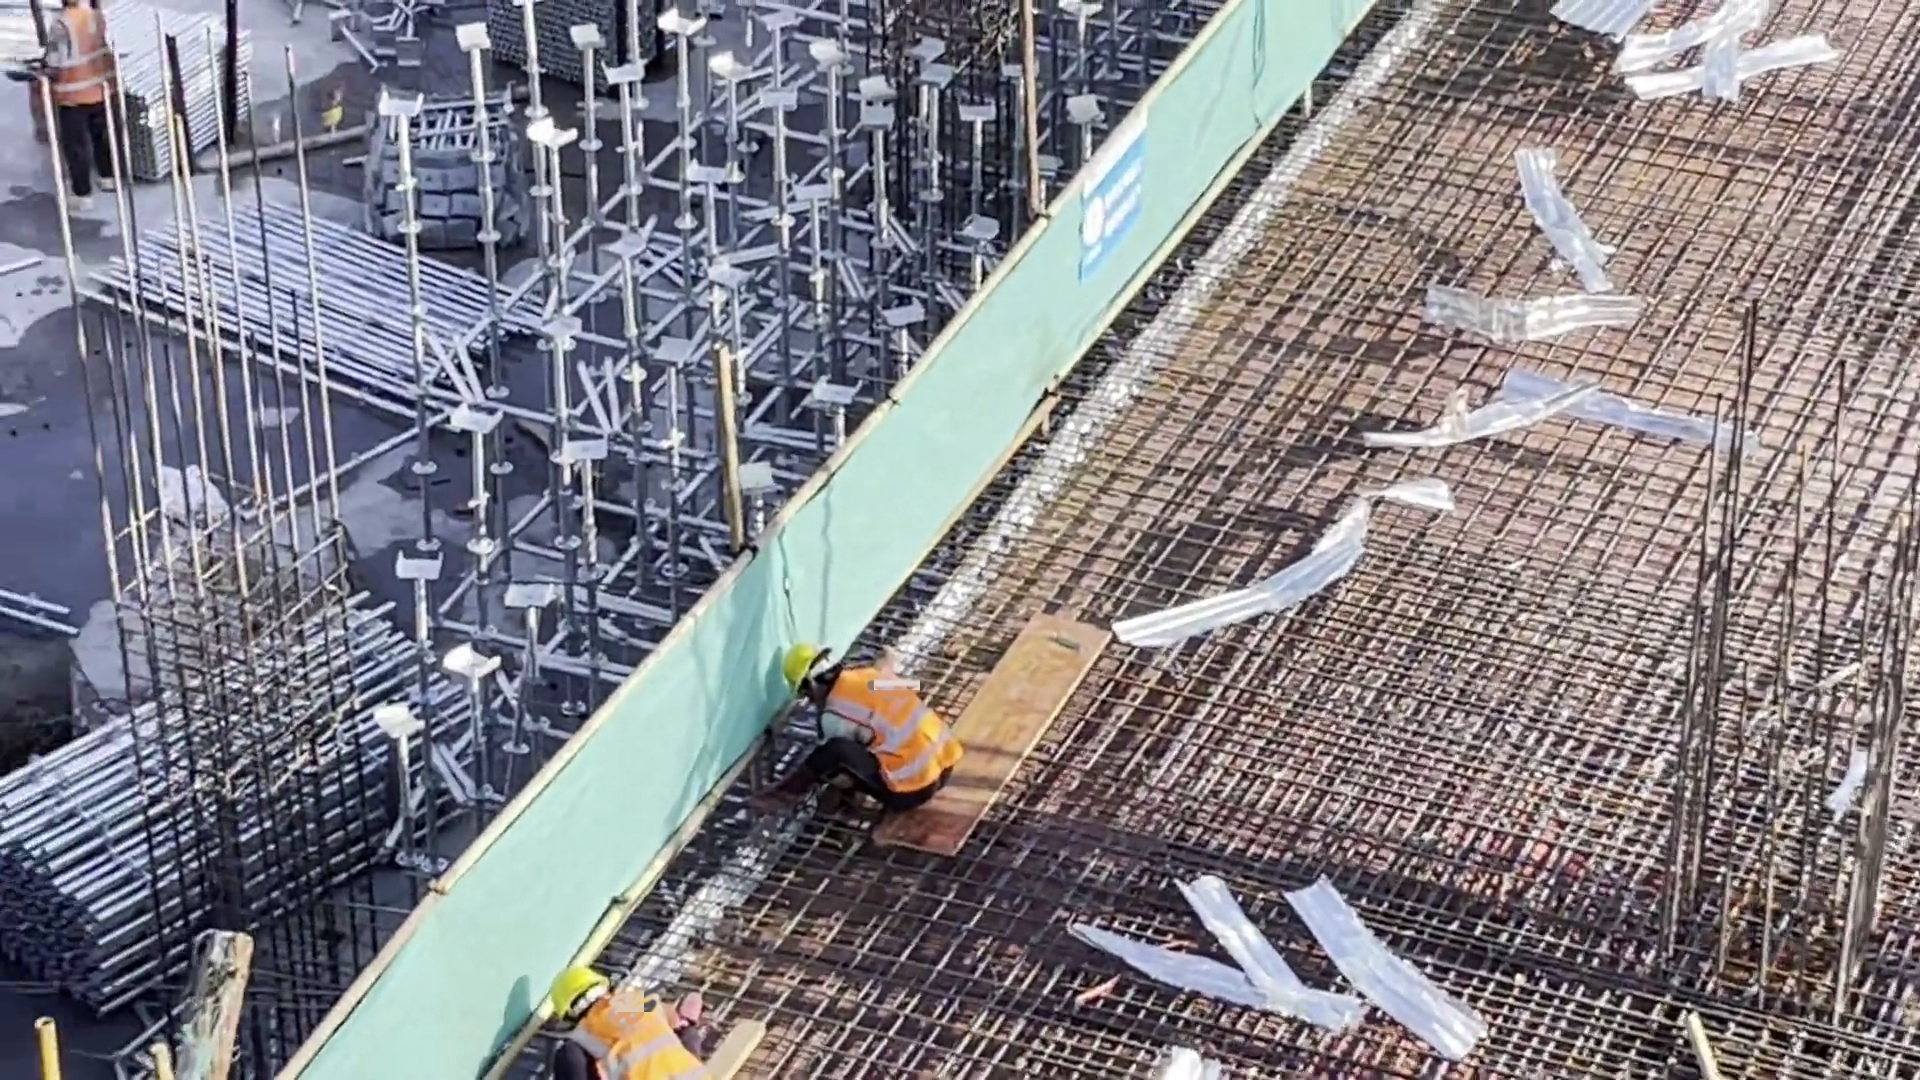helmet: (549, 968, 607, 1003), (777, 637, 813, 675)
person: (766, 632, 967, 823), (10, 1, 148, 206), (533, 946, 724, 1080)
scaffold: (5, 644, 392, 948), (126, 222, 515, 428), (47, 32, 255, 153), (491, 1, 659, 79)
slogan: (1084, 139, 1151, 259)
vest: (829, 677, 957, 807), (579, 1011, 707, 1080), (55, 19, 120, 112)
